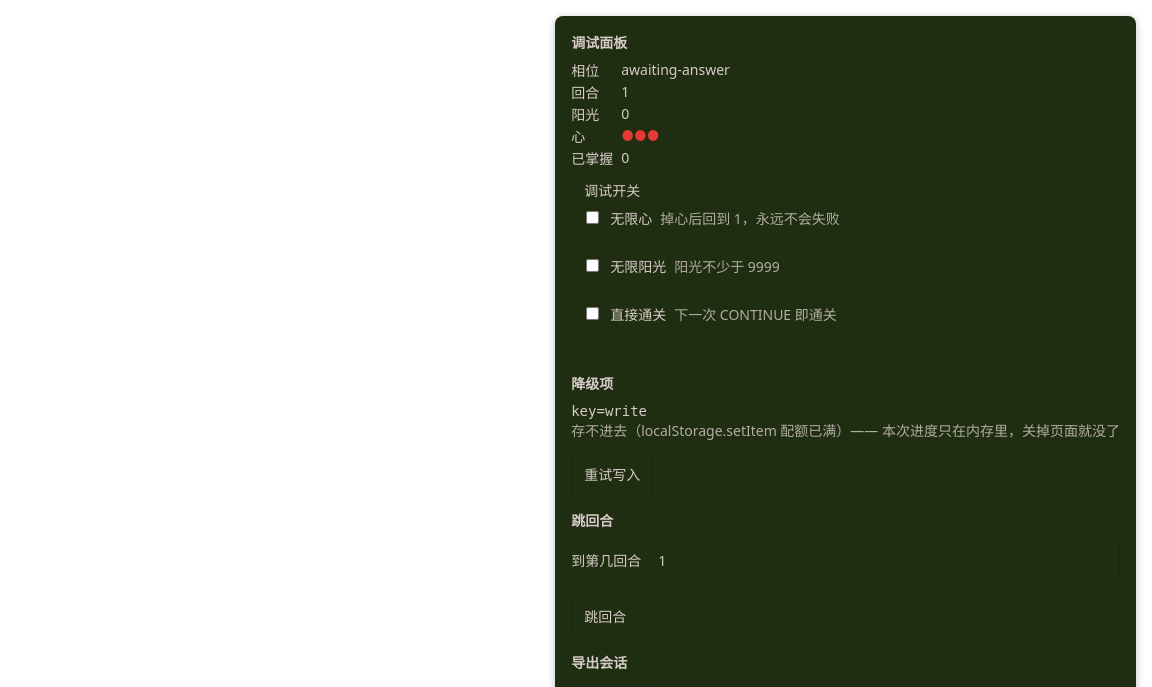
Test: [CR 2026-10-17] 面板先开着、之后才降级 ⇒ 它必须自己刷出来 › 降级被清掉也要刷 —— 家长点完「重试写入」看到的必须是「好了」
What coordinates should you click on to do the following:
click the button "重试写入"
I would click on:
 (612, 474)
Its box is left=571, top=450, right=653, bottom=498.
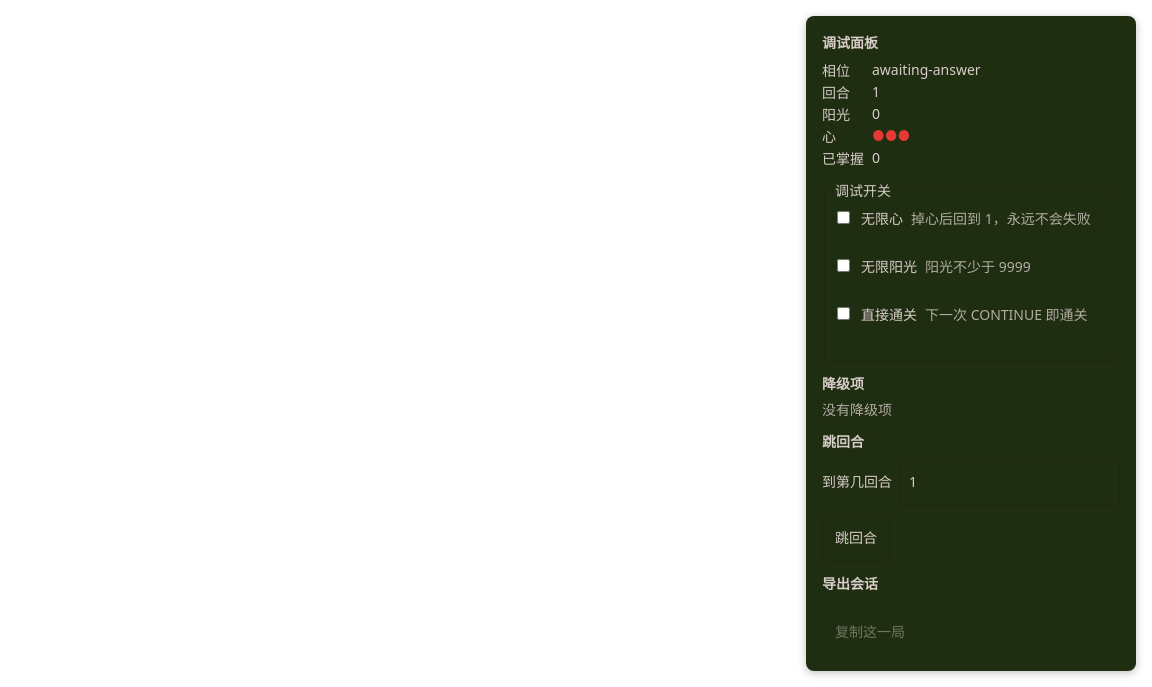
Check: the text "没有降级项" is shown, box left=822, top=400, right=892, bottom=419
